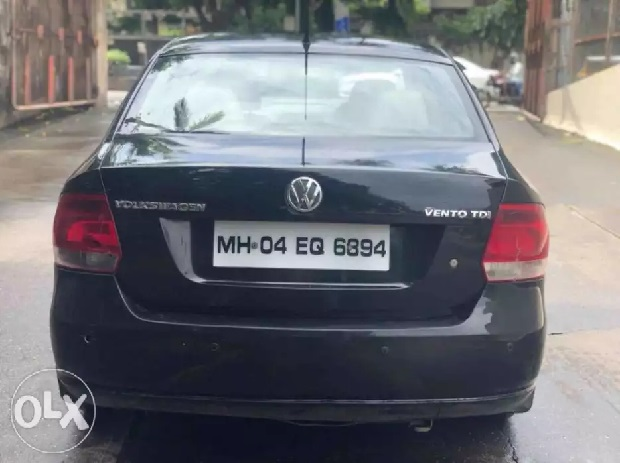licenseplate: (208, 216, 396, 273)
